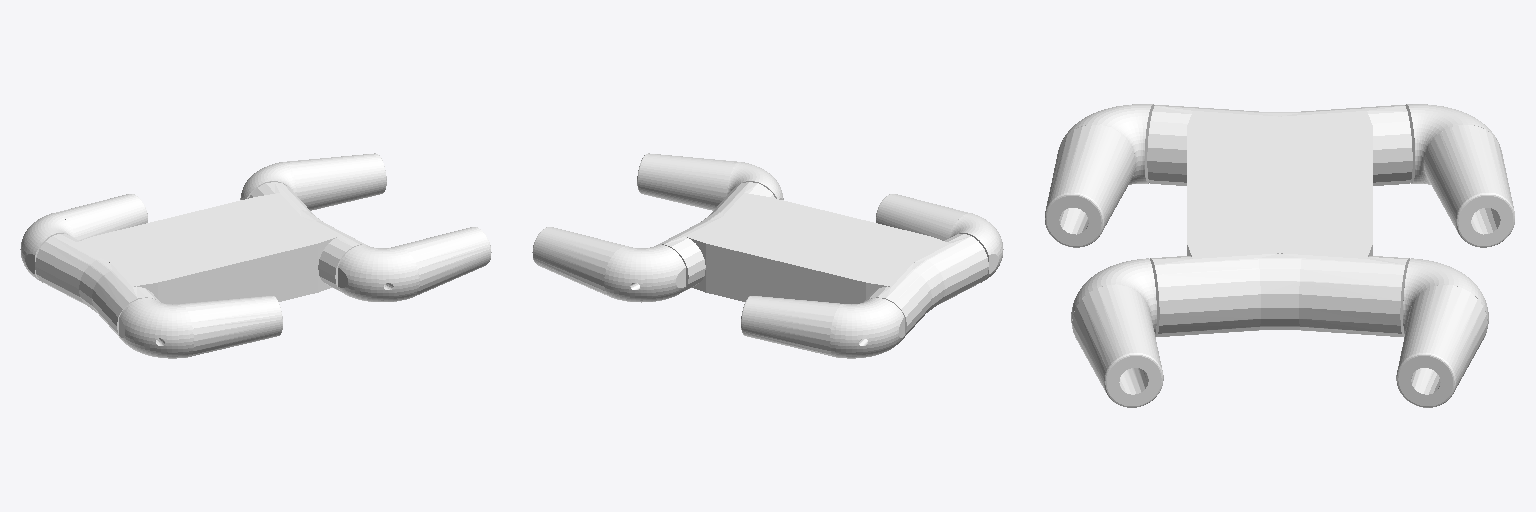
robot.urdf — 9_degree:
<?xml version="1.0" encoding="utf-8"?>
<!-- This URDF was automatically created by SolidWorks to URDF Exporter! Originally created by [author] ([email redacted]) 
     Commit Version: 1.5.1-0-g916b5db  Build Version: 1.5.7152.31018
     For more information, please see http://wiki.ros.org/sw_urdf_exporter -->
<robot
  name="9_degree">
  <link
    name="base_link">
    <inertial>
      <origin
        xyz="3.4694E-17 3.3926E-08 5.2042E-18"
        rpy="0 0 0" />
      <mass
        value="2.803" />
      <inertia
        ixx="0.010202845"
        ixy="4.6705E-19"
        ixz="-8.6671E-11"
        iyy="0.038222369"
        iyz="5.1377E-18"
        izz="0.046063310" />
    </inertial>
    <visual>
      <origin
        xyz="0 0 0"
        rpy="0 0 0" />
      <geometry>
        <mesh
          filename="package://9_degree/meshes/base_link.STL" />
      </geometry>
      <material
        name="">
        <color
          rgba="1 1 1 1" />
      </material>
    </visual>
    <collision>
      <origin
        xyz="0 0 0"
        rpy="0 0 0" />
      <geometry>
        <mesh
          filename="package://9_degree/meshes/base_link.STL" />
      </geometry>
    </collision>
  </link>
  <link
    name="left_fromt_link">
    <inertial>
      <origin
        xyz="-2.5031E-08 0.06054 -0.026821"
        rpy="0 0 0" />
      <mass
        value="0.0842" />
      <inertia
        ixx="0.000230004"
        ixy="5.1757E-10"
        ixz="7.2828E-10"
        iyy="0.000046294"
        iyz="-0.8156E-05"
        izz="0.000229331" />
    </inertial>
    <visual>
      <origin
        xyz="0 0 0"
        rpy="0 0 0" />
      <geometry>
        <mesh
          filename="package://9_degree/meshes/left_fromt_link.STL" />
      </geometry>
      <material
        name="">
        <color
          rgba="1 1 1 1" />
      </material>
    </visual>
    <collision>
      <origin
        xyz="0 0 0"
        rpy="0 0 0" />
      <geometry>
        <mesh
          filename="package://9_degree/meshes/left_fromt_link.STL" />
      </geometry>
    </collision>
  </link>
  <joint
    name="left_front_leg"
    type="continuous">
    <origin
      xyz="0.14611 0.10173 0"
      rpy="1.5708 1.5708 0" />
    <parent
      link="base_link" />
    <child
      link="left_fromt_link" />
    <axis
      xyz="0 0.15643 -0.98769" />
    <limit
      effort="5"
      velocity="487" />
  </joint>
  <link
    name="right_front_link">
    <inertial>
      <origin
        xyz="2.5031E-08 0.06054 0.026821"
        rpy="0 0 0" />
      <mass
        value="0.0842" />
      <inertia
        ixx="0.000230004"
        ixy="-5.1757E-10"
        ixz="7.2828E-10"
        iyy="0.000046294"
        iyz="0.8156E-05"
        izz="0.000229331" />
    </inertial>
    <visual>
      <origin
        xyz="0 0 0"
        rpy="0 0 0" />
      <geometry>
        <mesh
          filename="package://9_degree/meshes/right_front_link.STL" />
      </geometry>
      <material
        name="">
        <color
          rgba="1 1 1 1" />
      </material>
    </visual>
    <collision>
      <origin
        xyz="0 0 0"
        rpy="0 0 0" />
      <geometry>
        <mesh
          filename="package://9_degree/meshes/right_front_link.STL" />
      </geometry>
    </collision>
  </link>
  <joint
    name="right_front_leg"
    type="continuous">
    <origin
      xyz="0.14611 -0.10173 0"
      rpy="1.5708 1.5708 0" />
    <parent
      link="base_link" />
    <child
      link="right_front_link" />
    <axis
      xyz="0 0.15643 0.98769" />
    <limit
      effort="5"
      velocity="487" />
  </joint>
  <link
    name="right_back_link">
    <inertial>
      <origin
        xyz="5.7577E-09 0.055599 0.035961"
        rpy="0 0 0" />
      <mass
        value="0.0842" />
      <inertia
        ixx="0.000230004"
        ixy="-5.199E-10"
        ixz="5.8809E-10"
        iyy="0.000048253"
        iyz="-2.0524E-05"
        izz="0.000227372" />
    </inertial>
    <visual>
      <origin
        xyz="0 0 0"
        rpy="0 0 0" />
      <geometry>
        <mesh
          filename="package://9_degree/meshes/right_back_link.STL" />
      </geometry>
      <material
        name="">
        <color
          rgba="1 1 1 1" />
      </material>
    </visual>
    <collision>
      <origin
        xyz="0 0 0"
        rpy="0 0 0" />
      <geometry>
        <mesh
          filename="package://9_degree/meshes/right_back_link.STL" />
      </geometry>
    </collision>
  </link>
  <joint
    name="right_back_leg"
    type="continuous">
    <origin
      xyz="-0.14611 -0.10173 0"
      rpy="1.7279 1.5708 0" />
    <parent
      link="base_link" />
    <child
      link="right_back_link" />
    <axis
      xyz="0 0 1" />
    <limit
      effort="5"
      velocity="487" />
  </joint>
  <link
    name="left_back_link">
    <inertial>
      <origin
        xyz="-5.7577E-09 0.049289 -0.044216"
        rpy="0 0 0" />
      <mass
        value="0.0842" />
      <inertia
        ixx="0.000230004"
        ixy="6.055E-10"
        ixz="4.9952E-10"
        iyy="0.000058979"
        iyz="0.00047195"
        izz="0.000216646" />
    </inertial>
    <visual>
      <origin
        xyz="0 0 0"
        rpy="0 0 0" />
      <geometry>
        <mesh
          filename="package://9_degree/meshes/left_back_link.STL" />
      </geometry>
      <material
        name="">
        <color
          rgba="1 1 1 1" />
      </material>
    </visual>
    <collision>
      <origin
        xyz="0 0 0"
        rpy="0 0 0" />
      <geometry>
        <mesh
          filename="package://9_degree/meshes/left_back_link.STL" />
      </geometry>
    </collision>
  </link>
  <joint
    name="left_back_leg"
    type="continuous">
    <origin
      xyz="-0.14611 0.10173 0"
      rpy="1.5708 1.5708 0" />
    <parent
      link="base_link" />
    <child
      link="left_back_link" />
    <axis
      xyz="0 -0.15643 -0.98769" />
    <limit
      effort="5"
      velocity="487" />
  </joint>
</robot>

--- Facts derived from the render (not from the file) ---
Views: 3 orthographic renders of the robot side by side, from view 1: azimuth 30°, elevation 25°; view 2: azimuth 150°, elevation 25°; view 3: azimuth 270°, elevation 25°.
Model 9_degree with 5 links and 4 joints (4 continuous), rooted at base_link, posed all joints at 0.
Visible links, largest first — view 1: base_link, right_back_link, right_front_link, left_fromt_link, left_back_link; view 2: base_link, left_back_link, left_fromt_link, right_front_link, right_back_link; view 3: base_link, right_back_link, left_back_link, left_fromt_link, right_front_link.
Link boxes in pixels (<box>): base_link: <box>35,182,365,338</box>; right_back_link: <box>119,296,282,358</box>; right_front_link: <box>338,227,491,301</box>; left_fromt_link: <box>240,153,386,210</box>; left_back_link: <box>20,194,147,282</box>; base_link: <box>658,182,988,338</box>; left_back_link: <box>741,296,904,358</box>; left_fromt_link: <box>532,227,685,302</box>; right_front_link: <box>637,153,783,210</box>; right_back_link: <box>876,194,1003,282</box>; base_link: <box>1147,105,1412,336</box>; right_back_link: <box>1045,104,1154,247</box>; left_back_link: <box>1405,104,1514,247</box>; left_fromt_link: <box>1396,258,1488,407</box>; right_front_link: <box>1071,258,1163,407</box>.
Bounding box of the posed robot: 0.4867 × 0.3787 × 0.064 m (x, y, z).
Meshes: 5 distinct files referenced, 5 mesh visuals loaded (5 binary STL).